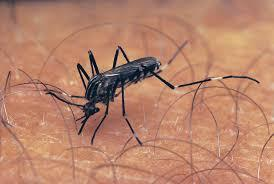insect: (41, 36, 261, 150)
